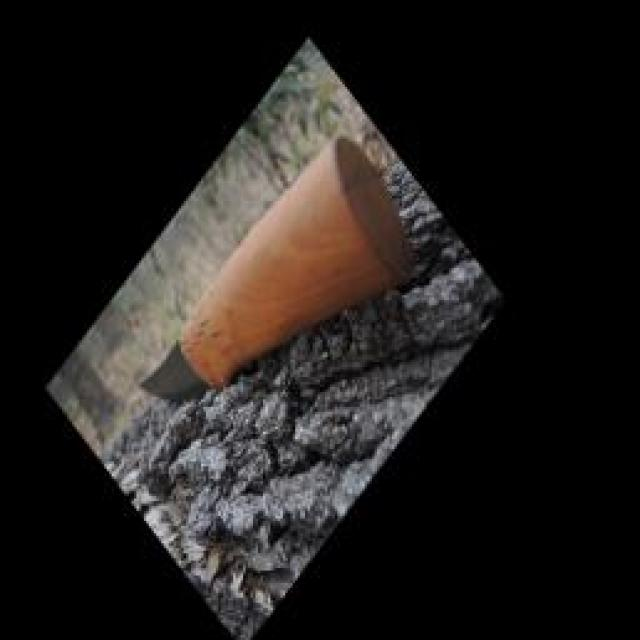knife: (134, 134, 415, 399)
